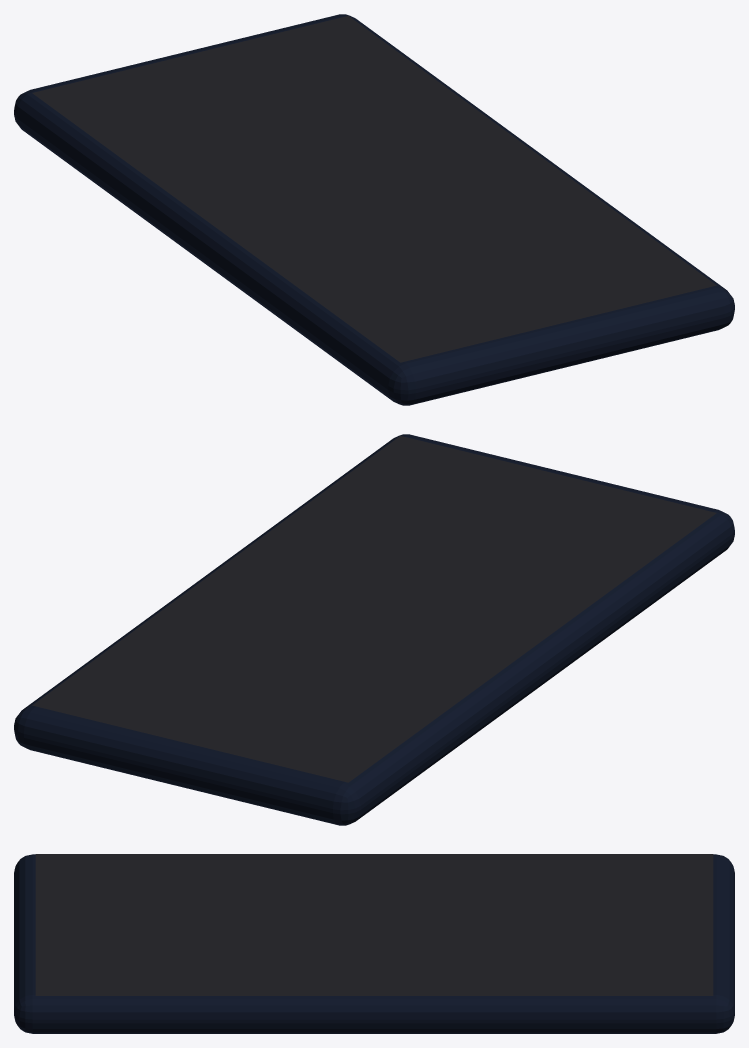
File: Phone_284.glb
3 views of the same model, one above another, from view 1: azimuth 30°, elevation 25°; view 2: azimuth 150°, elevation 25°; view 3: azimuth 270°, elevation 25° (orthographic). The views are drawn at different scales.
Visible parts, largest first — view 1: Phone_Screen, Phone_Body; view 2: Phone_Screen, Phone_Body; view 3: Phone_Screen, Phone_Body.
Part boxes in pixels (<box>): Phone_Screen: <box>32,16,716,362</box>; Phone_Body: <box>14,14,734,405</box>; Phone_Screen: <box>32,436,716,782</box>; Phone_Body: <box>14,434,734,825</box>; Phone_Screen: <box>35,854,713,995</box>; Phone_Body: <box>14,854,734,1033</box>.
Size of the model in its own units: 0.0799 by 0.0091 by 0.1577.
